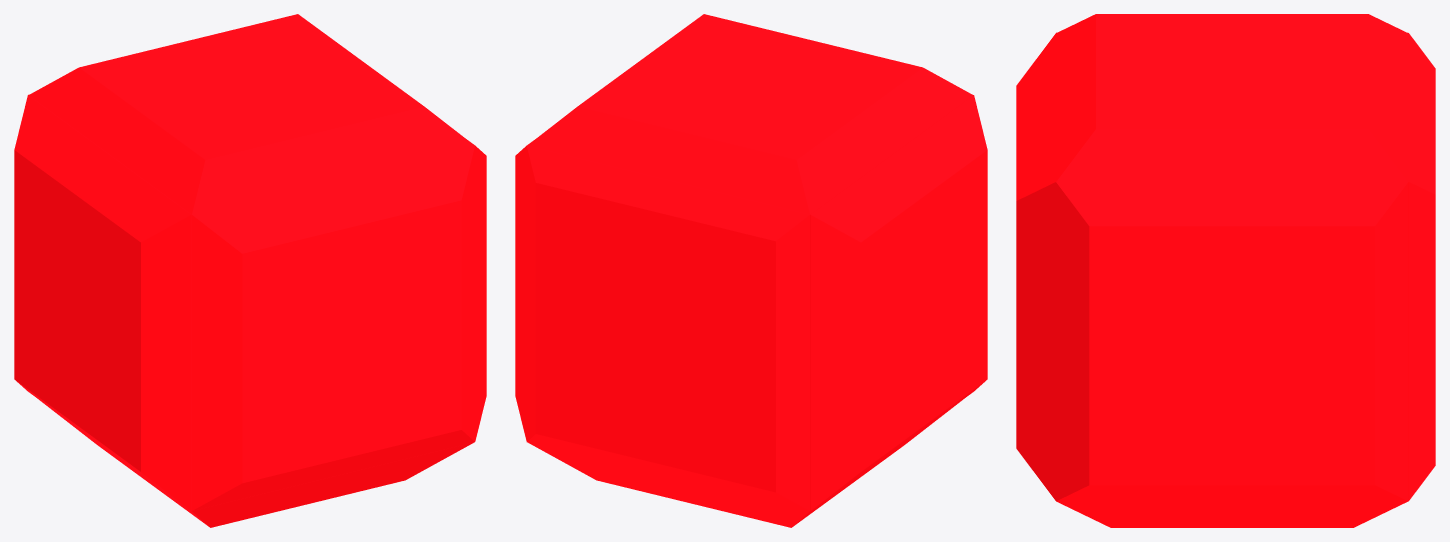
Rendered from PlayerCube.fbx.
3 views of the same model, side by side, from view 1: azimuth 30°, elevation 25°; view 2: azimuth 150°, elevation 25°; view 3: azimuth 270°, elevation 25° (orthographic). The views are drawn at different scales.
Parts seen in each view (by area): view 1: Cube; view 2: Cube; view 3: Cube.
Boxes of the visible parts, x1,y1,x2,y2 form: Cube: (14, 14, 486, 527); Cube: (515, 14, 987, 527); Cube: (1016, 14, 1435, 527).
Size of the model in its own units: 242 by 254 by 238.
